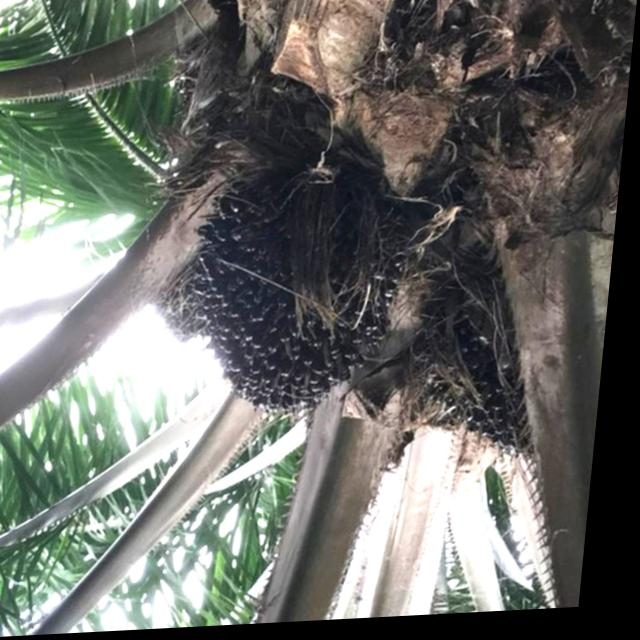almost: (181, 161, 419, 428), (418, 280, 566, 471)
